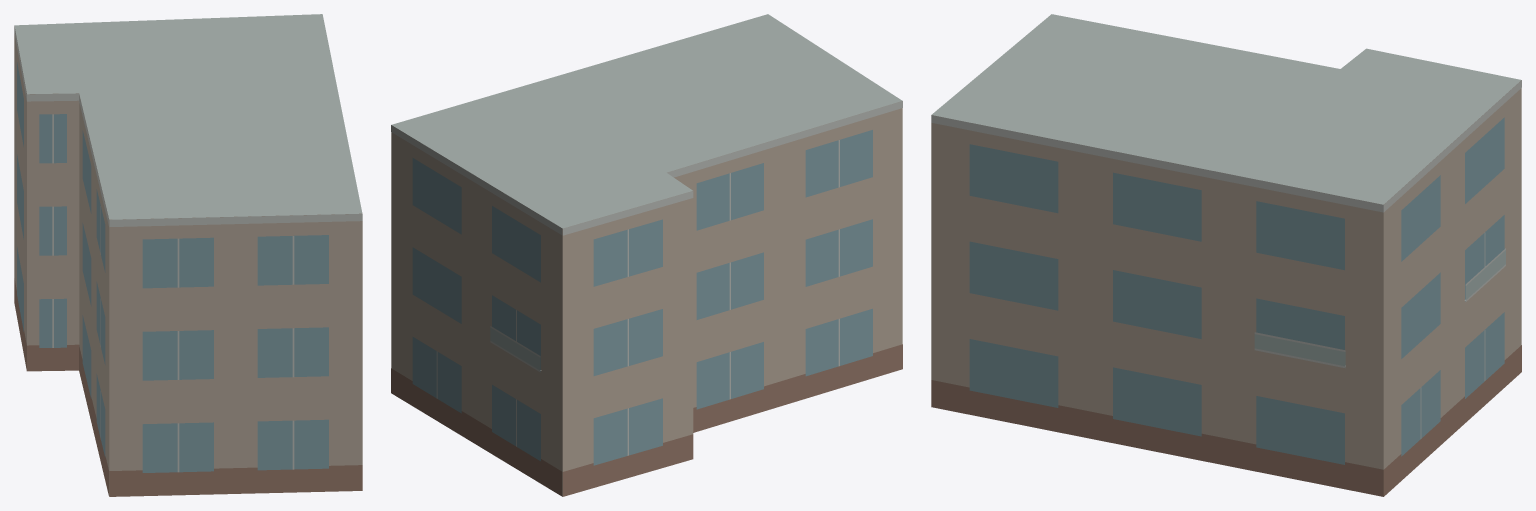
File: survey-upis-32846173.glb
The picture shows the model from 3 angles, left to right: view 1: azimuth 30°, elevation 25°; view 2: azimuth 150°, elevation 25°; view 3: azimuth 270°, elevation 25°; orthographic projection. The views are drawn at different scales.
Visible parts, largest first — view 1: survey-upis-32846173.tmp; view 2: survey-upis-32846173.tmp; view 3: survey-upis-32846173.tmp.
Boxes of the visible parts, x1,y1,x2,y2 form: survey-upis-32846173.tmp: (14,14,362,496); survey-upis-32846173.tmp: (391,14,902,496); survey-upis-32846173.tmp: (931,14,1521,496).
Bounding box in the file's own units: 12.82 × 9.15 × 16.77.
